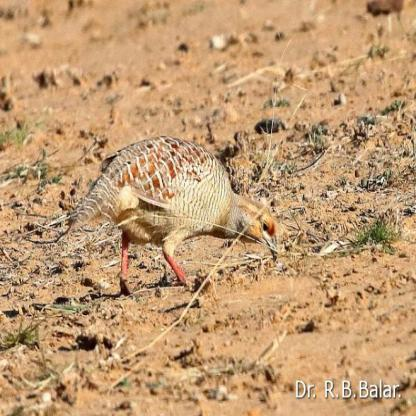Burung: (68, 137, 277, 296)
